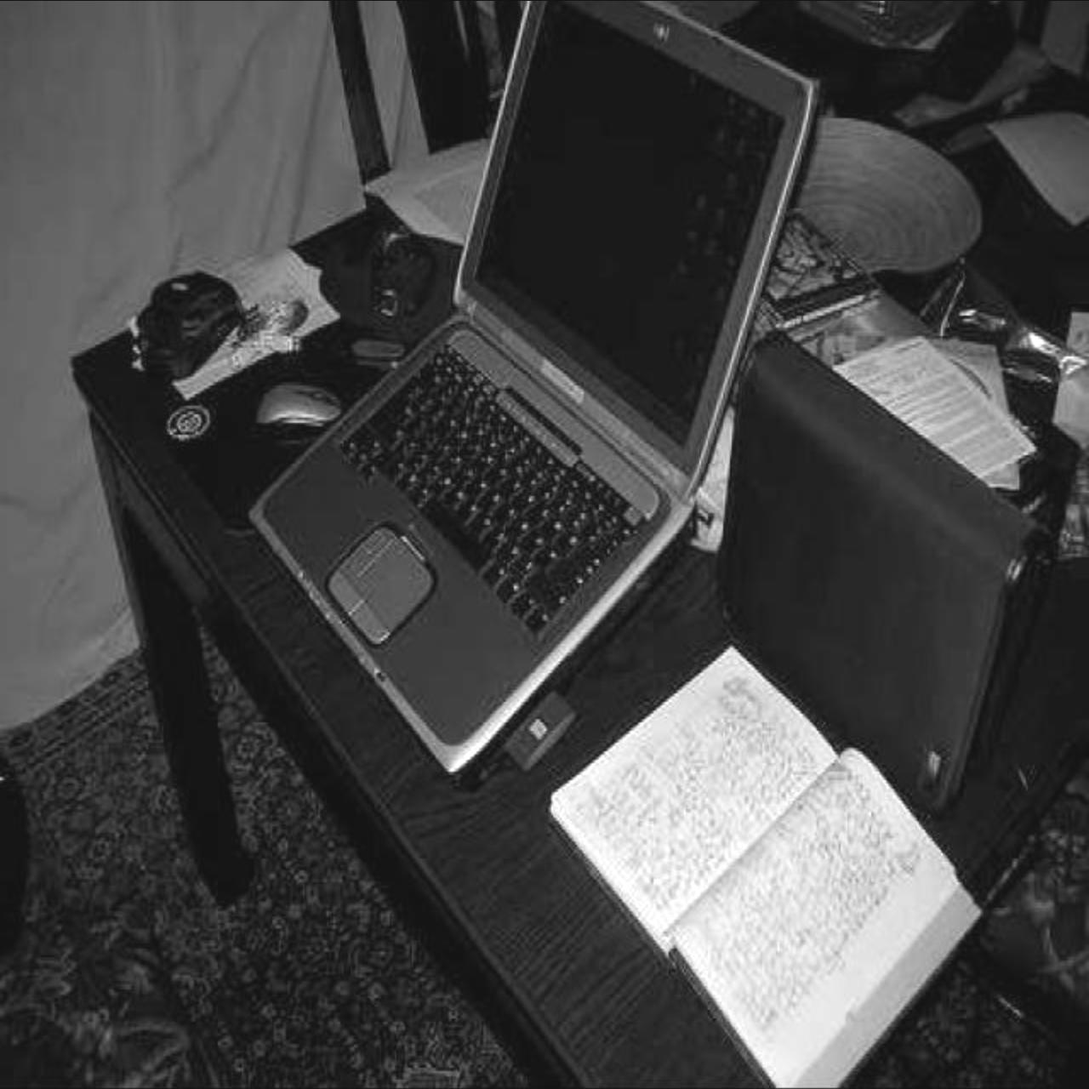laptop: (299, 93, 777, 615)
